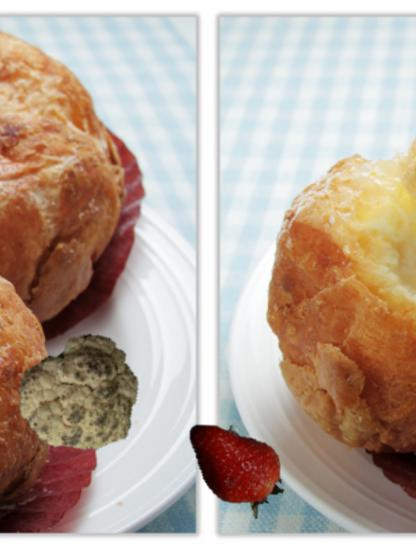Cauliflower: (15, 331, 141, 457)
Strawberry: (187, 422, 287, 522)
